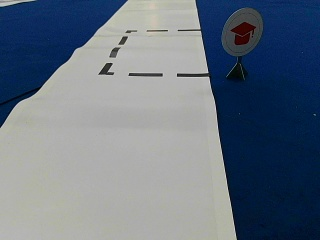school: (221, 6, 263, 55)
